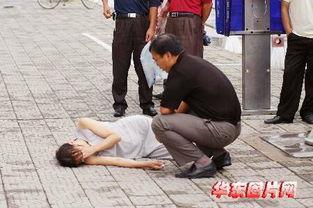Fall-Detected: (45, 106, 174, 172)
